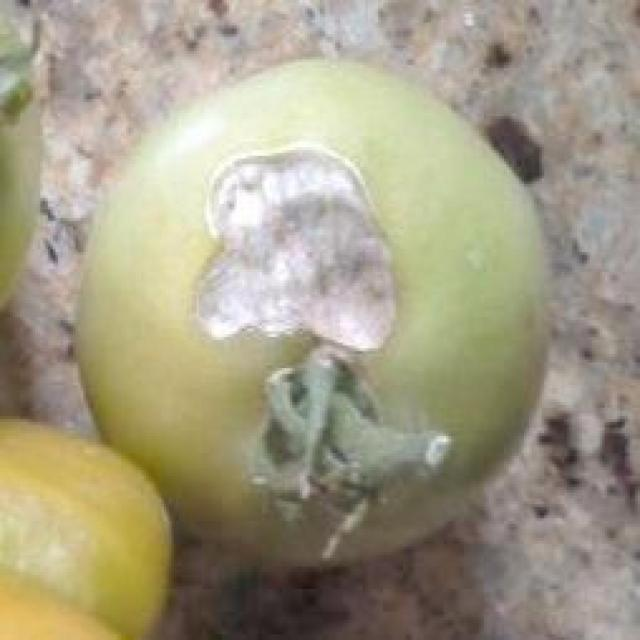Sunscald Fruit: (121, 90, 299, 260)
